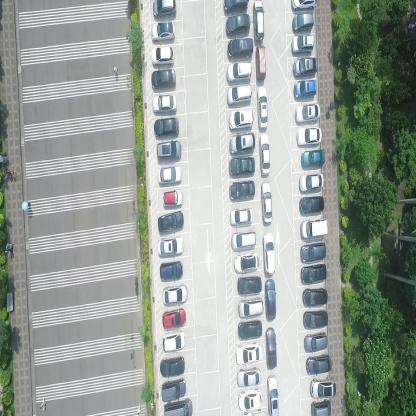car: (160, 376, 186, 402), (301, 215, 328, 240), (235, 341, 262, 366), (225, 12, 251, 37), (157, 209, 185, 232), (262, 230, 276, 275), (226, 81, 251, 106), (228, 130, 254, 154), (293, 55, 319, 79), (306, 352, 332, 376), (228, 178, 255, 201), (228, 155, 256, 177), (295, 101, 321, 124), (227, 36, 253, 59), (237, 318, 263, 341), (301, 241, 328, 263), (228, 106, 252, 130), (226, 59, 251, 82), (302, 263, 328, 285), (230, 228, 256, 250), (238, 296, 264, 318), (162, 283, 188, 305), (310, 376, 336, 398), (236, 367, 262, 389), (163, 396, 193, 415), (157, 235, 184, 256), (264, 277, 277, 320), (303, 330, 327, 353), (160, 354, 184, 377), (297, 126, 322, 148), (233, 252, 258, 274), (162, 308, 187, 330), (237, 389, 262, 411), (299, 172, 325, 193), (156, 139, 182, 160), (302, 309, 328, 330), (162, 330, 185, 353), (261, 180, 273, 224), (294, 78, 318, 100), (151, 20, 175, 42), (301, 148, 326, 169), (236, 275, 262, 295), (150, 68, 176, 88), (153, 116, 179, 136), (299, 195, 326, 214), (292, 33, 315, 55), (292, 11, 314, 34), (229, 205, 253, 226), (150, 44, 174, 65), (152, 92, 176, 113), (157, 165, 182, 185), (257, 84, 268, 129), (259, 131, 270, 176), (267, 374, 279, 415), (266, 326, 277, 370), (303, 288, 329, 306), (253, 0, 264, 42), (160, 260, 183, 280), (255, 43, 266, 81), (153, 0, 176, 18), (162, 188, 182, 208), (311, 398, 331, 416), (224, 0, 249, 13), (291, 0, 317, 12)
